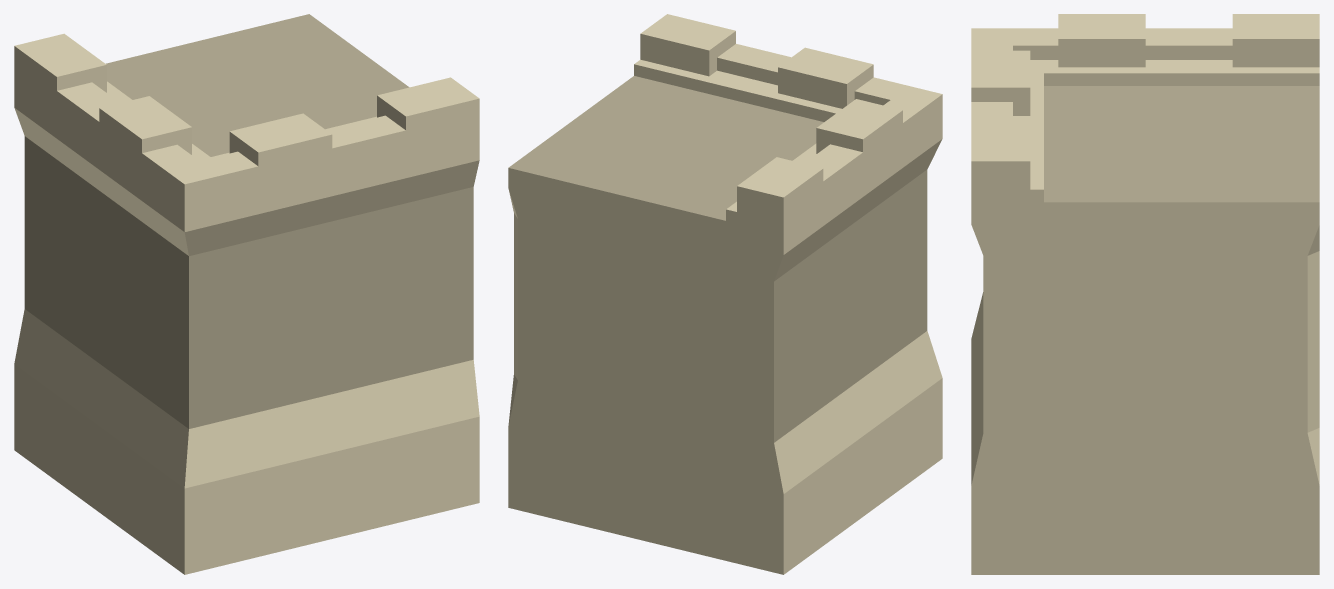
Rendered from wallCornerHalf.obj.
3 views of the same model, side by side, from view 1: azimuth 30°, elevation 25°; view 2: azimuth 150°, elevation 25°; view 3: azimuth 270°, elevation 25° (orthographic). The views are drawn at different scales.
Visible parts, largest first — view 1: wallCornerHalf; view 2: wallCornerHalf; view 3: wallCornerHalf.
Part boxes in pixels (x1,y1,x2,y2): wallCornerHalf: (14, 14, 479, 574); wallCornerHalf: (508, 14, 942, 574); wallCornerHalf: (971, 14, 1319, 574).
Bounding box in the file's own units: 10 × 13.1 × 10.
